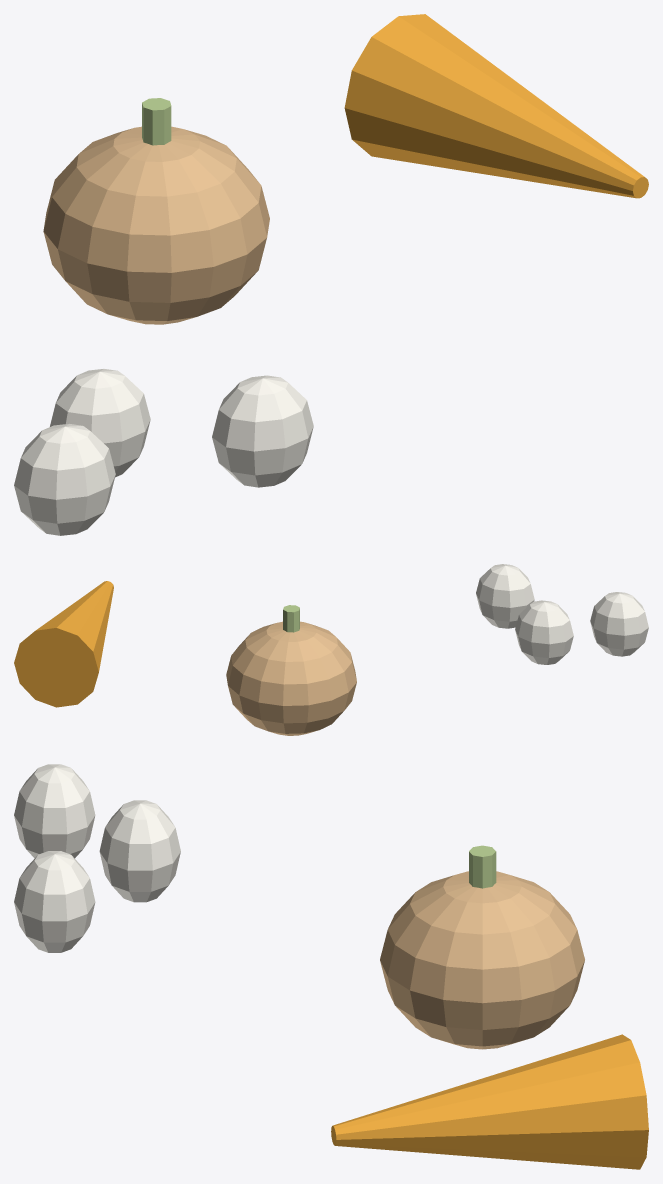
The model's file is ingredients.glb.
The picture shows the model from 3 angles, top to bottom: view 1: azimuth 30°, elevation 25°; view 2: azimuth 150°, elevation 25°; view 3: azimuth 270°, elevation 25°; orthographic projection. The views are drawn at different scales.
Parts seen in each view (by area): view 1: Ingredient_Onion, Ingredient_Carrot, Ingredient_Garlic_2, Ingredient_Garlic_1, Ingredient_Garlic_0, Ingredient_OnionStem; view 2: Ingredient_Onion, Ingredient_Carrot, Ingredient_Garlic_0, Ingredient_Garlic_2, Ingredient_Garlic_1, Ingredient_OnionStem; view 3: Ingredient_Onion, Ingredient_Carrot, Ingredient_Garlic_0, Ingredient_Garlic_1, Ingredient_Garlic_2, Ingredient_OnionStem.
Part boxes in pixels (bbox=[...]): Ingredient_Onion: bbox=[43, 126, 269, 324]; Ingredient_Carrot: bbox=[344, 14, 648, 198]; Ingredient_Garlic_2: bbox=[14, 423, 115, 535]; Ingredient_Garlic_1: bbox=[212, 375, 313, 487]; Ingredient_Garlic_0: bbox=[50, 369, 150, 477]; Ingredient_OnionStem: bbox=[142, 98, 171, 145]; Ingredient_Onion: bbox=[226, 621, 356, 735]; Ingredient_Carrot: bbox=[14, 581, 113, 707]; Ingredient_Garlic_0: bbox=[515, 600, 573, 664]; Ingredient_Garlic_2: bbox=[590, 592, 648, 656]; Ingredient_Garlic_1: bbox=[476, 564, 534, 628]; Ingredient_OnionStem: bbox=[283, 605, 299, 632]; Ingredient_Onion: bbox=[380, 871, 584, 1049]; Ingredient_Carrot: bbox=[331, 1034, 648, 1169]; Ingredient_Garlic_0: bbox=[99, 800, 180, 902]; Ingredient_Garlic_1: bbox=[14, 851, 95, 952]; Ingredient_Garlic_2: bbox=[14, 764, 95, 858]; Ingredient_OnionStem: bbox=[469, 845, 496, 888].
Size of the model in its own units: 0.4757 by 0.121 by 0.3711.
